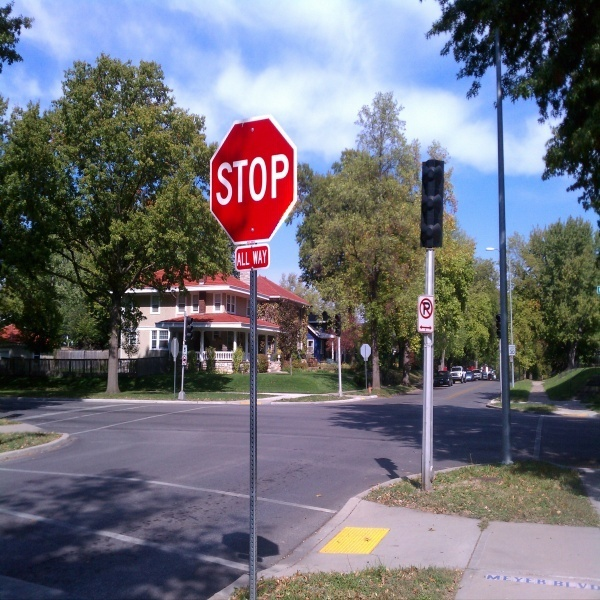stop: (209, 114, 296, 247)
